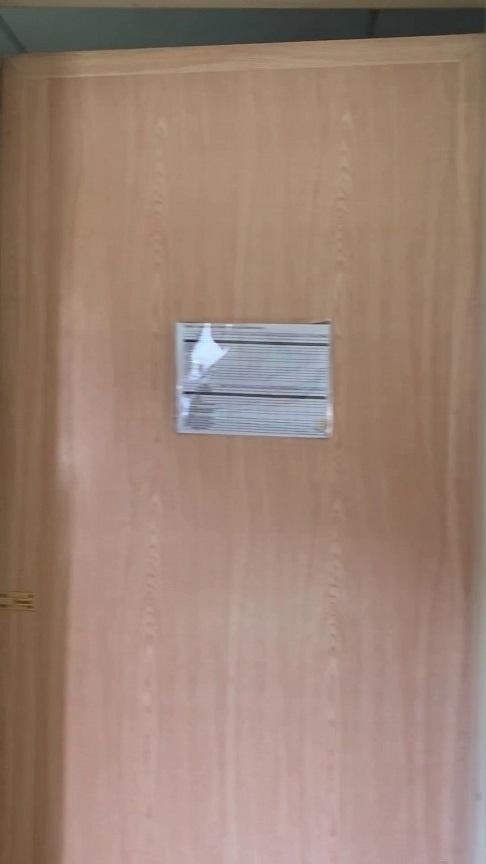door: (0, 8, 486, 864)
